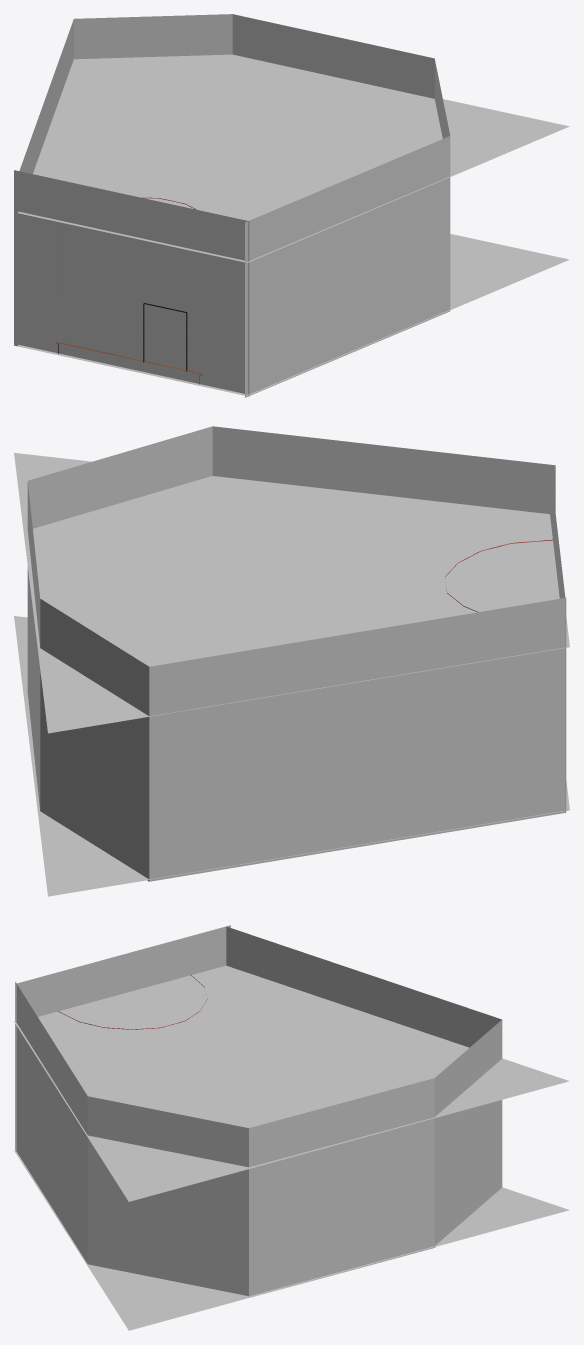
File: escenario gameplay.fbx
3 renders of one model, top to bottom at view 1: azimuth 30°, elevation 25°; view 2: azimuth 150°, elevation 25°; view 3: azimuth 270°, elevation 25°, orthographic. The views are drawn at different scales.
Parts seen in each view (by area): view 1: Plane003, Plane005, Plane002, Plane001; view 2: Plane003, Plane005, Plane001, Plane002; view 3: Plane003, Plane005, Plane001, Plane002.
Boxes of the visible parts, bbox=[...] form: Plane003: bbox=[19, 14, 450, 397]; Plane005: bbox=[18, 54, 569, 262]; Plane002: bbox=[14, 170, 249, 396]; Plane001: bbox=[18, 234, 569, 395]; Plane003: bbox=[27, 426, 566, 881]; Plane005: bbox=[14, 453, 569, 733]; Plane001: bbox=[14, 616, 569, 896]; Plane002: bbox=[550, 466, 565, 812]; Plane003: bbox=[15, 926, 502, 1296]; Plane005: bbox=[14, 965, 569, 1201]; Plane001: bbox=[14, 1150, 569, 1330]; Plane002: bbox=[16, 925, 230, 1151].
Size of the model in its own units: 683 by 228 by 675.
